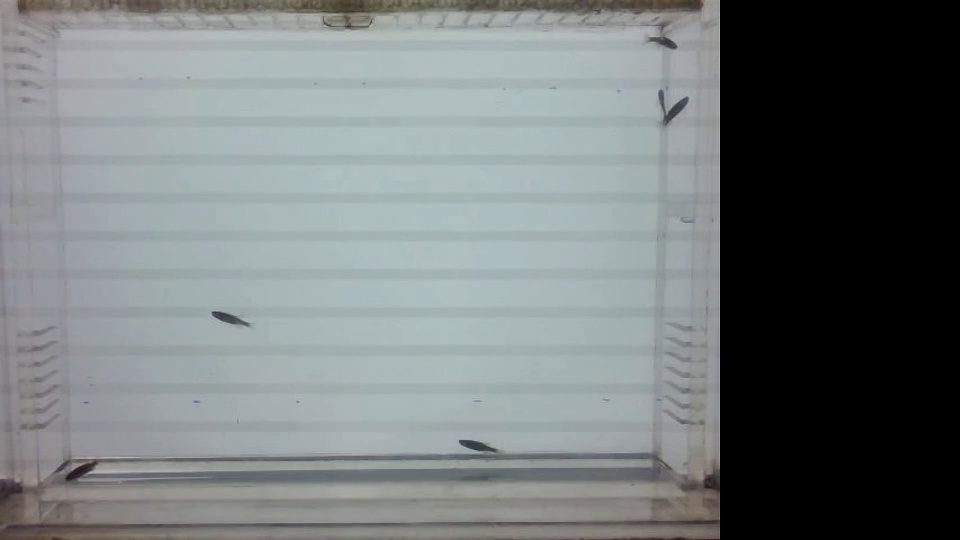fish: (58, 449, 105, 485), (205, 301, 249, 336), (450, 432, 504, 456), (654, 98, 692, 129), (646, 29, 680, 56), (654, 77, 672, 120)
